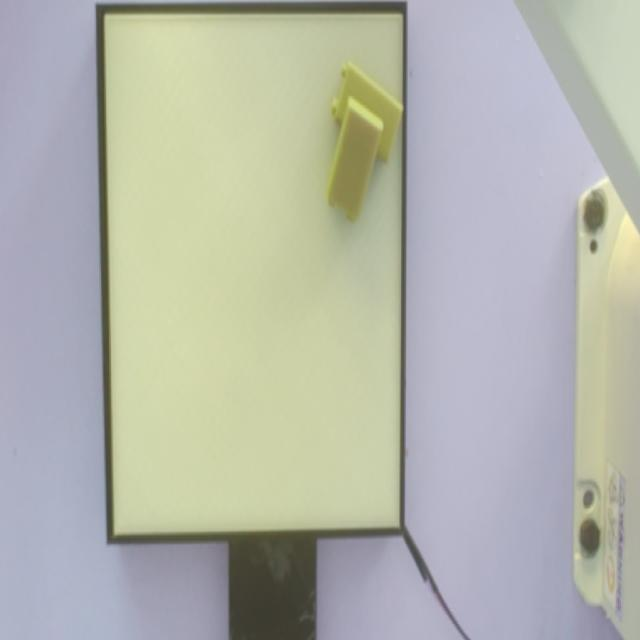bateria: (326, 96, 384, 223)
mesa: (95, 1, 406, 547)
